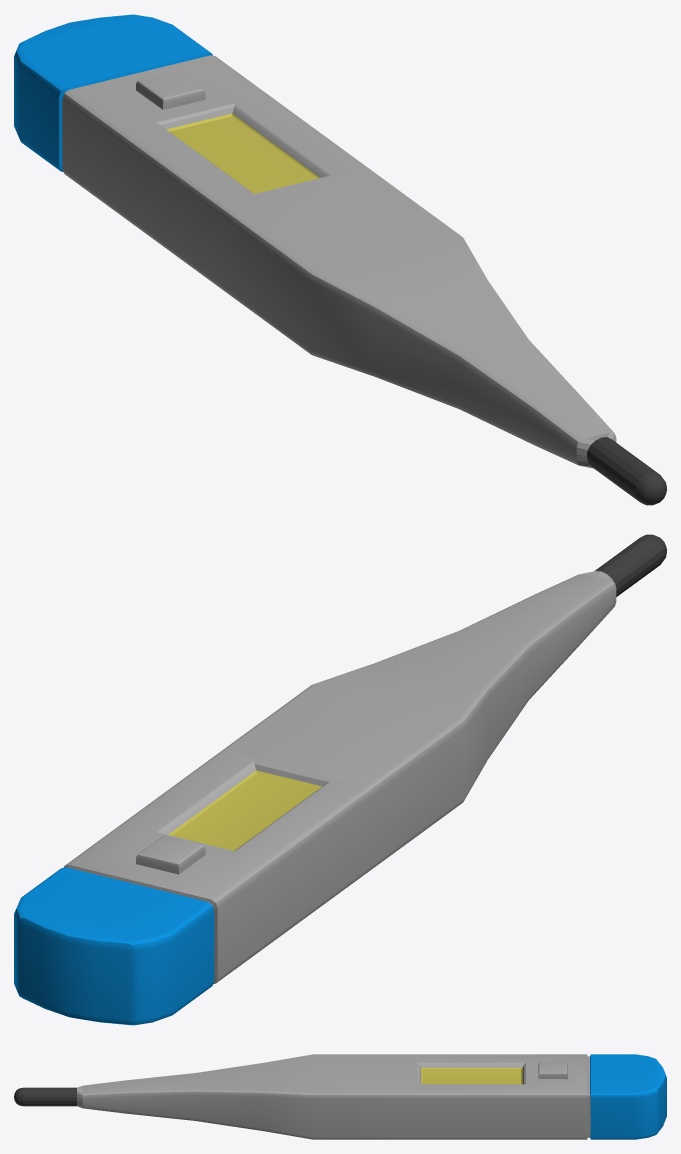
The model's file is Parent_Run_Thermometer.fbx.
3 renders of one model, top to bottom at view 1: azimuth 30°, elevation 25°; view 2: azimuth 150°, elevation 25°; view 3: azimuth 270°, elevation 25°, orthographic. The views are drawn at different scales.
Visible parts, largest first — view 1: Thermometer; view 2: Thermometer; view 3: Thermometer.
Boxes of the visible parts, bbox=[...] form: Thermometer: bbox=[14, 14, 666, 505]; Thermometer: bbox=[14, 534, 666, 1025]; Thermometer: bbox=[14, 1054, 666, 1139].
Bounding box in the file's own units: 37.03 × 21.91 × 244.
